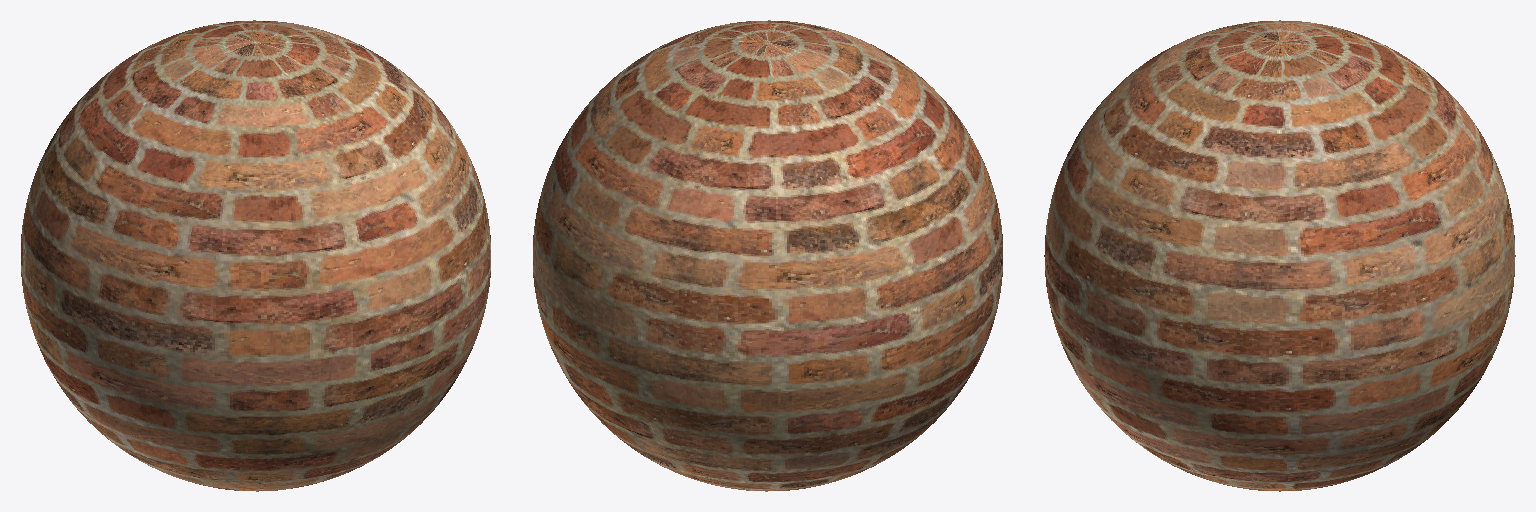
3 views of the same model, side by side, from view 1: azimuth 30°, elevation 25°; view 2: azimuth 150°, elevation 25°; view 3: azimuth 270°, elevation 25° (orthographic).
Visible parts, largest first — view 1: pSphere1; view 2: pSphere1; view 3: pSphere1.
Part boxes in pixels (x1,y1,x2,y2): pSphere1: (21, 20, 490, 491); pSphere1: (533, 20, 1002, 491); pSphere1: (1044, 20, 1515, 491).
Size of the model in its own units: 3.92 by 3.92 by 3.92.
Materials: 1 (1 with a texture image).